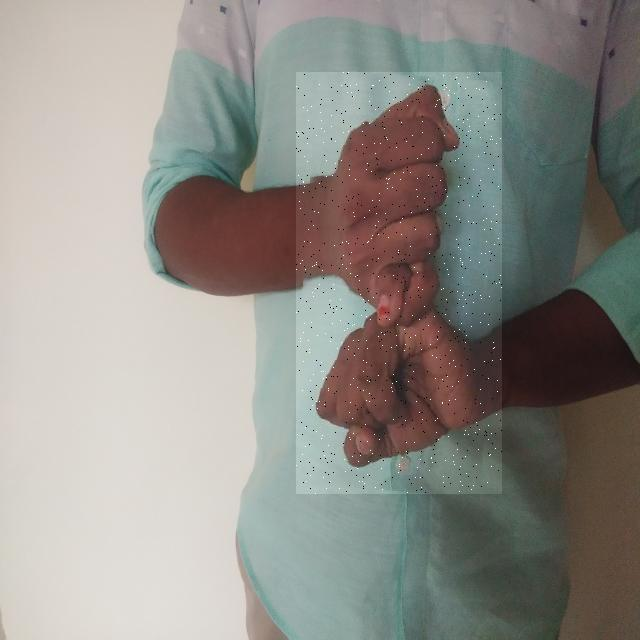S: (296, 72, 502, 494)
